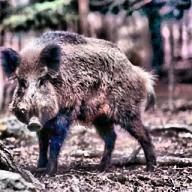boar: (0, 29, 158, 178)
